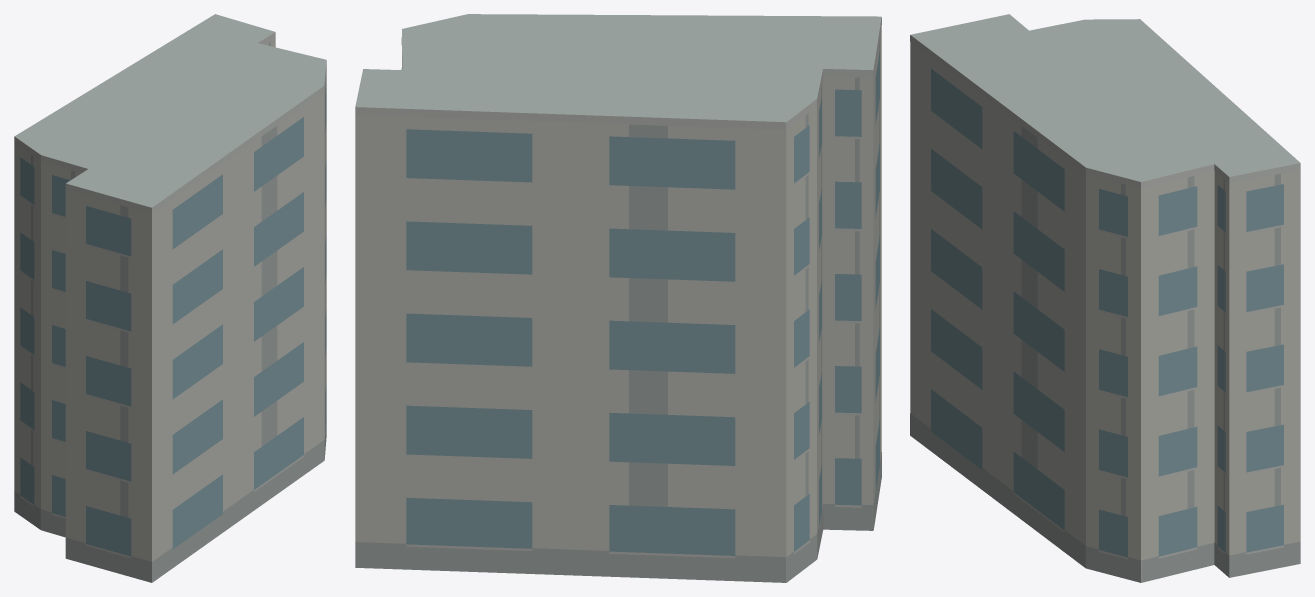
File: survey-upis-32701892.glb
The picture shows the model from 3 angles, left to right: view 1: azimuth 30°, elevation 25°; view 2: azimuth 150°, elevation 25°; view 3: azimuth 270°, elevation 25°; orthographic projection. The views are drawn at different scales.
Parts seen in each view (by area): view 1: survey-upis-32701892.tmp; view 2: survey-upis-32701892.tmp; view 3: survey-upis-32701892.tmp.
Boxes of the visible parts, left/top/right/bottom form: survey-upis-32701892.tmp: left=14, top=14, right=326, bottom=582; survey-upis-32701892.tmp: left=355, top=14, right=881, bottom=582; survey-upis-32701892.tmp: left=910, top=14, right=1300, bottom=582.
Bounding box in the file's own units: 12.87 × 14.3 × 12.64.
